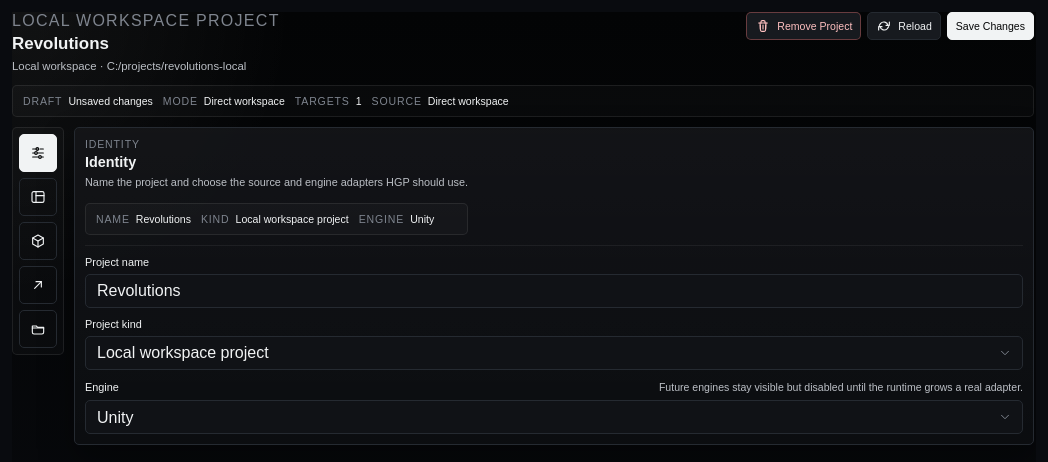
Test: RepositoryProjectDetail › switches the access tab to workspace for local projects
What coordinates should you click on to do the following:
click the tab named "Workspace"
I would click on:
 (38, 197)
Its box is 19,178 -> 57,216.
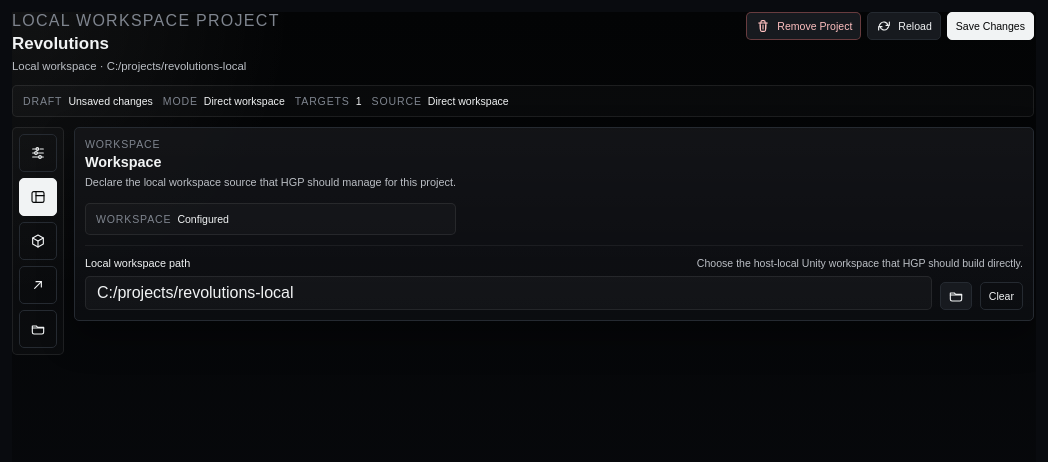
Check: the field showing "C:/projects/revolutions-local" is shown, box 85,276 -> 932,310
